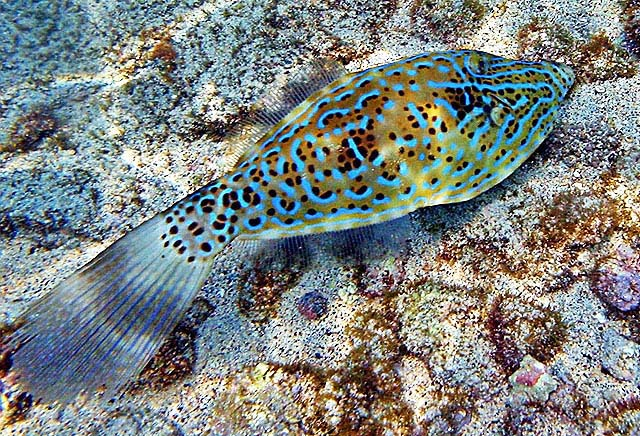Aluterus_scriptus: (6, 43, 576, 405)
